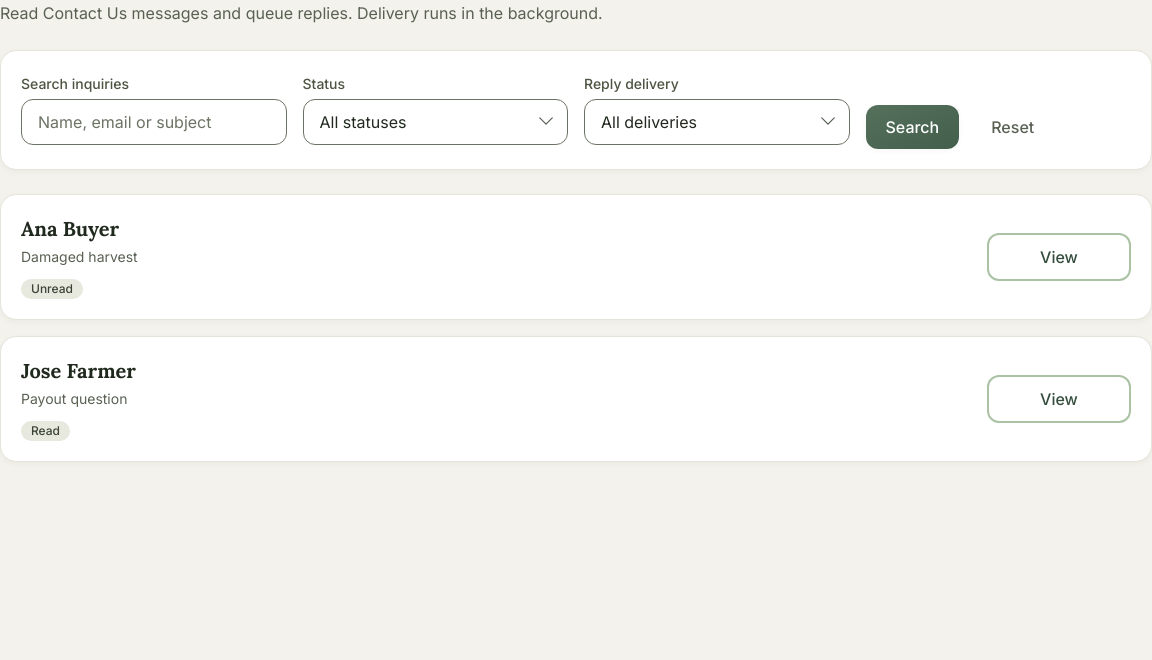
AdminInquiriesPage.vue › shows Queued, not Sent, after the reply is accepted
This screenshot has width=1152, height=660.
Click the button "View" in the row of "Damaged harvest" at (1059, 257), box [987,233,1131,281]
(page scrolled)
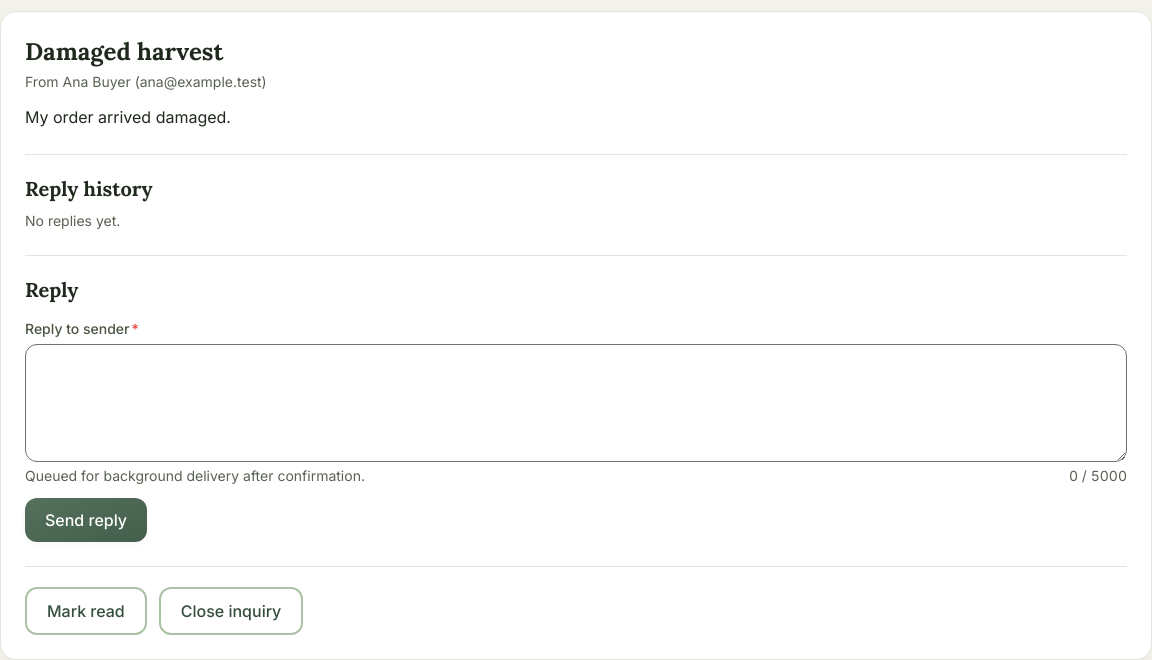
Type "Thanks for writing to us." into the text box with id "admin-inquiry-reply" at (576, 403), box [25,344,1127,462]
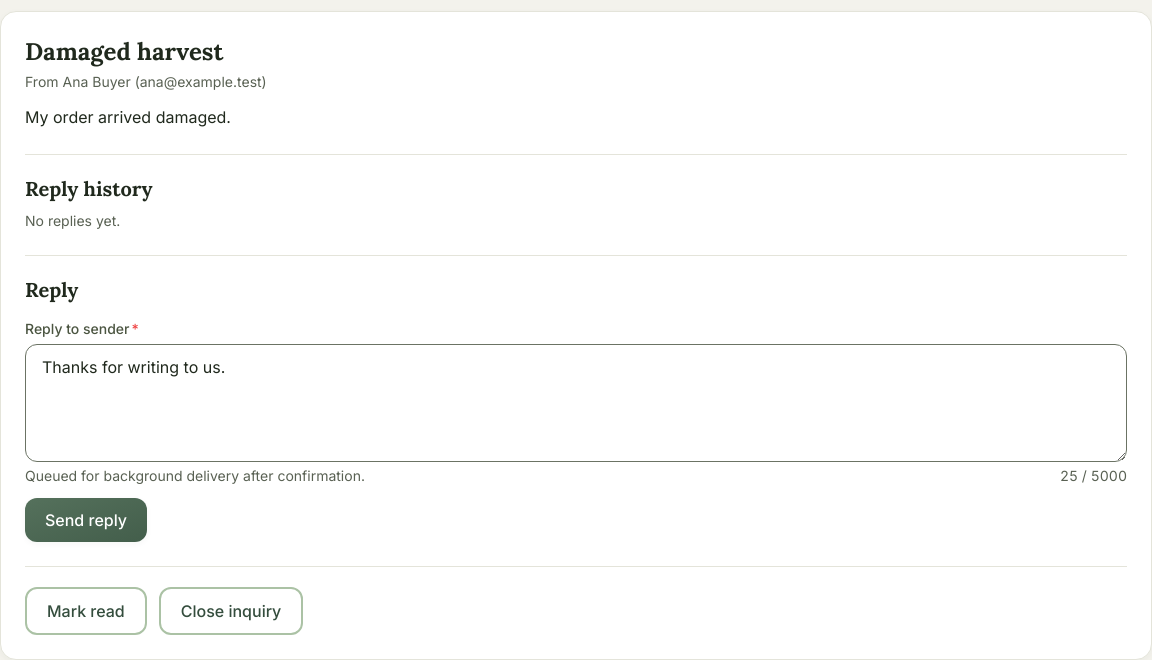
Click the button "Send reply" at (86, 520), box [25,498,147,542]
(page scrolled)
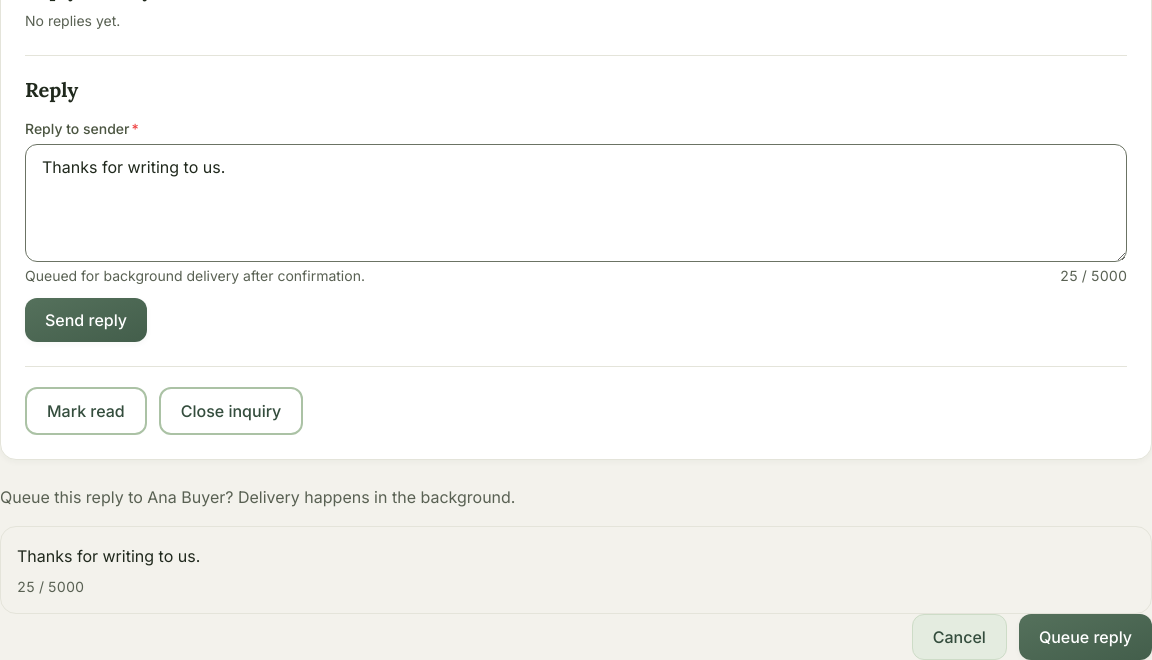
Click the button "Queue reply" at (1085, 637), box [1019,614,1151,659]
(page scrolled)
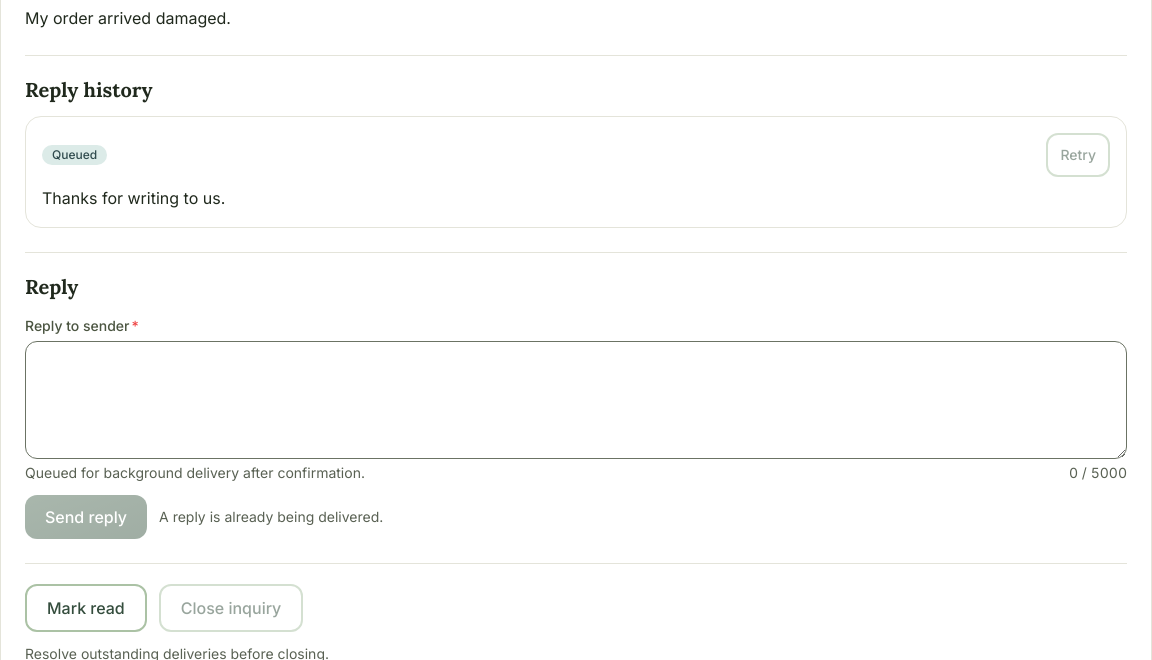
Check: the element with test id "admin-inquiry-detail" shows "Queued", box [52,147,97,162]
Check: the element with test id "admin-inquiry-detail" shows "Thanks for writing to us.", box [42,188,225,208]
